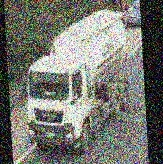truck: (20, 7, 136, 155)
